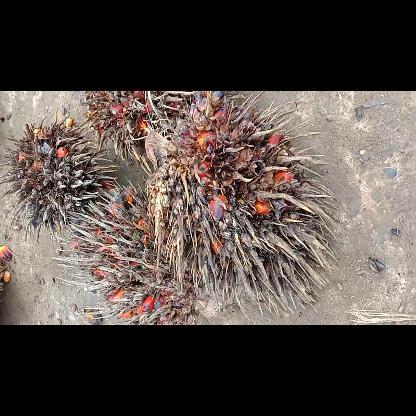Terlalu masak: (139, 90, 347, 324), (48, 178, 224, 324), (0, 103, 119, 243), (76, 91, 214, 164)
